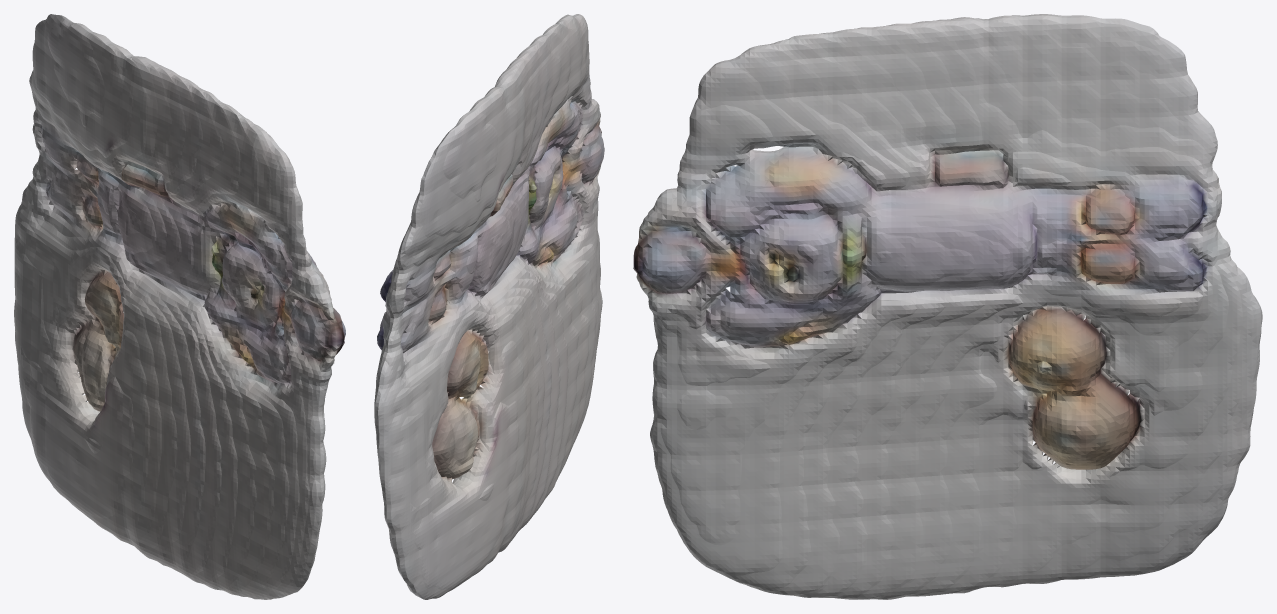
Rendered from 12-隱藏款-招財貓-來財.glb.
3 renders of one model, left to right at view 1: azimuth 30°, elevation 25°; view 2: azimuth 150°, elevation 25°; view 3: azimuth 270°, elevation 25°, orthographic. The views are drawn at different scales.
Visible parts, largest first — view 1: world; view 2: world; view 3: world.
Boxes of the visible parts, bbox=[...] form: world: bbox=[14, 14, 345, 599]; world: bbox=[374, 14, 604, 599]; world: bbox=[633, 14, 1262, 599].
Size of the model in its own units: 0.179 by 0.8824 by 0.8811.
